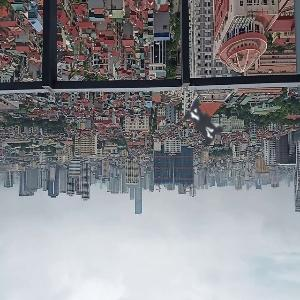drone: (151, 65, 263, 177)
